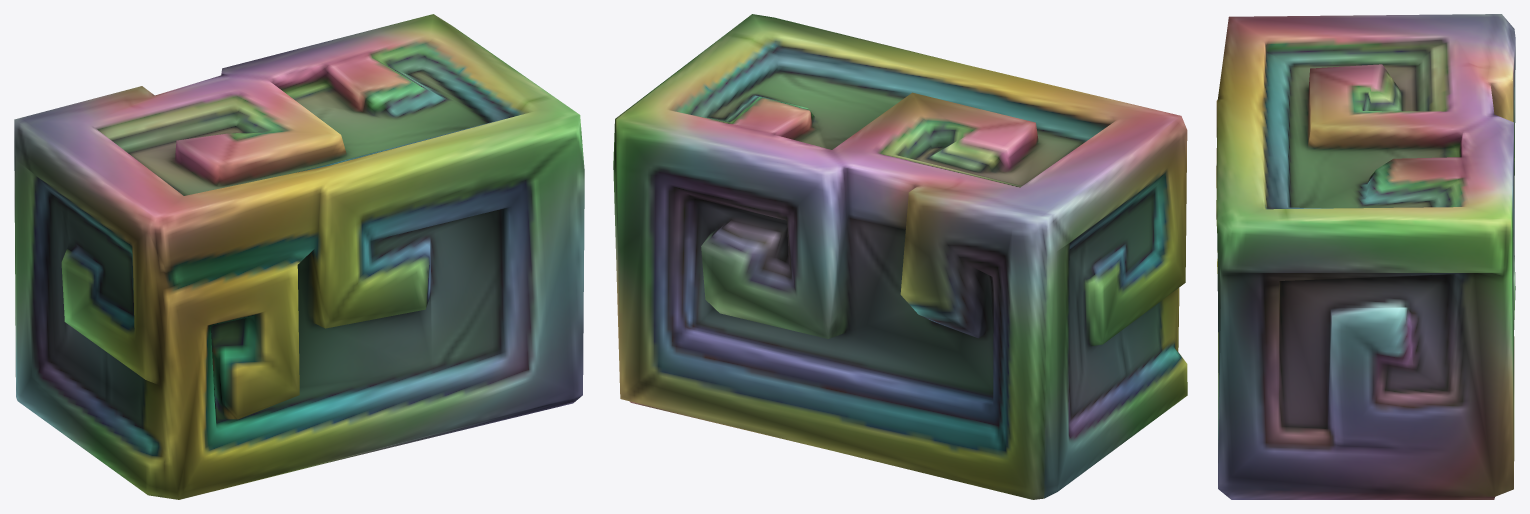
File: SM_Gem_Bismuth_Piece_002.fbx
3 renders of one model, left to right at view 1: azimuth 30°, elevation 25°; view 2: azimuth 150°, elevation 25°; view 3: azimuth 270°, elevation 25°, orthographic.
Visible parts, largest first — view 1: SM_Gem_Bismuth_Piece_002; view 2: SM_Gem_Bismuth_Piece_002; view 3: SM_Gem_Bismuth_Piece_002.
Boxes of the visible parts, box(x1,y1,x2,y2) form: SM_Gem_Bismuth_Piece_002: box(14, 14, 584, 499); SM_Gem_Bismuth_Piece_002: box(613, 14, 1187, 499); SM_Gem_Bismuth_Piece_002: box(1216, 14, 1515, 499).
Bounding box in the file's own units: 29.78 × 18.83 × 17.87.
